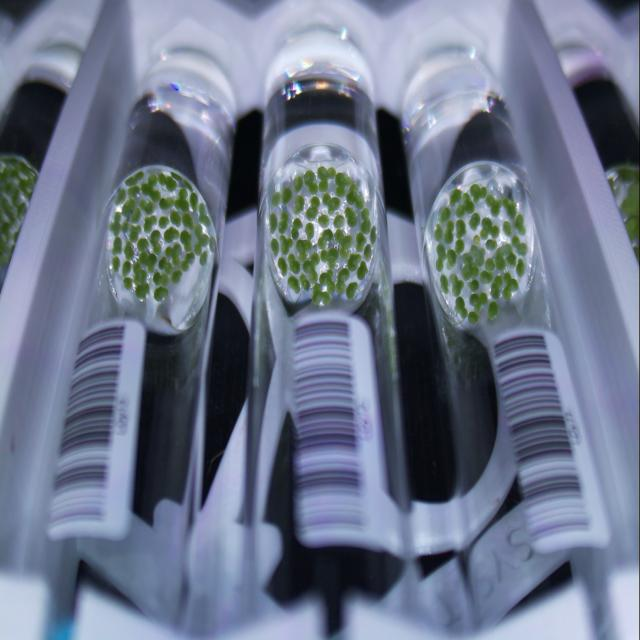Lemna-Gibba: (301, 252, 320, 284), (141, 173, 160, 202), (495, 243, 515, 270), (335, 228, 352, 259), (458, 255, 479, 280), (171, 172, 191, 197), (502, 272, 519, 300), (456, 193, 475, 217), (346, 183, 364, 208), (270, 187, 292, 207), (480, 217, 500, 238), (320, 247, 339, 269), (295, 238, 312, 262), (485, 193, 502, 217), (319, 269, 335, 294), (322, 192, 341, 213), (311, 284, 330, 305), (455, 218, 466, 254), (121, 220, 138, 243), (158, 173, 178, 192), (139, 252, 158, 272), (335, 172, 350, 197), (305, 195, 320, 220), (132, 262, 148, 285), (470, 183, 488, 203), (470, 294, 488, 314), (336, 269, 350, 294), (166, 242, 181, 265), (124, 170, 144, 187), (511, 235, 528, 255), (195, 223, 209, 247), (304, 170, 318, 193), (450, 274, 464, 297), (468, 245, 484, 265), (162, 225, 180, 242), (426, 223, 442, 242), (502, 197, 516, 218), (490, 275, 502, 299), (455, 297, 468, 319), (318, 228, 332, 248), (318, 167, 329, 192), (152, 272, 170, 287), (199, 205, 211, 227), (180, 230, 192, 252), (150, 230, 161, 254), (436, 243, 445, 272), (345, 207, 358, 227), (361, 207, 371, 233), (356, 260, 369, 280), (154, 285, 169, 302), (122, 198, 135, 217), (291, 218, 302, 240), (140, 198, 156, 213), (288, 254, 300, 274), (181, 252, 195, 269), (189, 192, 202, 210), (159, 257, 172, 275), (444, 220, 454, 243), (288, 275, 300, 294), (174, 197, 189, 212), (332, 213, 345, 230), (294, 193, 305, 213), (304, 222, 315, 242), (280, 235, 292, 253), (114, 220, 128, 235), (135, 284, 149, 299), (124, 240, 134, 261), (278, 212, 288, 233), (446, 248, 456, 269), (488, 300, 499, 319), (181, 212, 194, 228), (144, 215, 156, 232), (346, 282, 358, 299), (514, 218, 526, 235), (111, 237, 122, 255), (159, 197, 174, 210), (136, 237, 149, 252), (439, 207, 451, 223), (270, 238, 280, 257), (269, 212, 278, 233), (170, 210, 181, 227), (450, 188, 461, 205), (468, 310, 479, 327), (150, 230, 160, 248), (356, 232, 366, 250), (348, 255, 360, 270), (278, 257, 288, 275), (470, 212, 480, 230), (440, 274, 449, 294), (115, 187, 126, 203), (300, 274, 311, 290), (199, 250, 209, 267), (480, 270, 492, 284), (131, 225, 142, 240), (516, 259, 525, 277), (292, 175, 302, 191), (485, 238, 498, 250), (171, 270, 182, 284), (318, 213, 329, 227), (122, 260, 131, 277), (364, 243, 372, 262), (131, 207, 141, 222), (111, 257, 121, 272), (128, 187, 141, 198), (158, 215, 169, 228), (469, 280, 480, 293), (194, 238, 202, 255), (485, 259, 495, 272), (209, 235, 216, 252), (326, 167, 336, 178), (472, 235, 481, 246), (124, 277, 132, 289), (370, 227, 376, 243), (504, 222, 512, 234), (118, 212, 122, 221), (122, 220, 126, 223), (481, 272, 483, 276)
